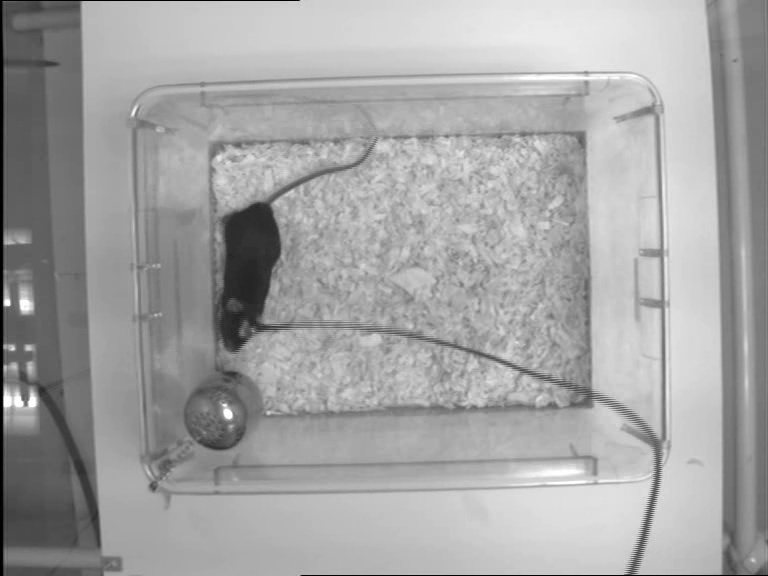mice: (220, 135, 380, 354)
